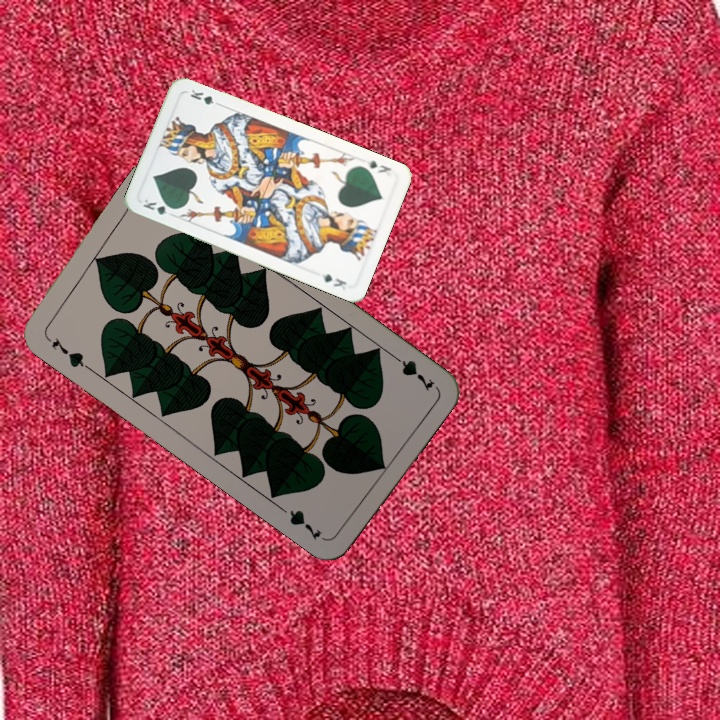G7: (386, 349, 437, 394), (41, 331, 92, 372)
GK: (139, 195, 178, 217), (361, 156, 394, 179)
